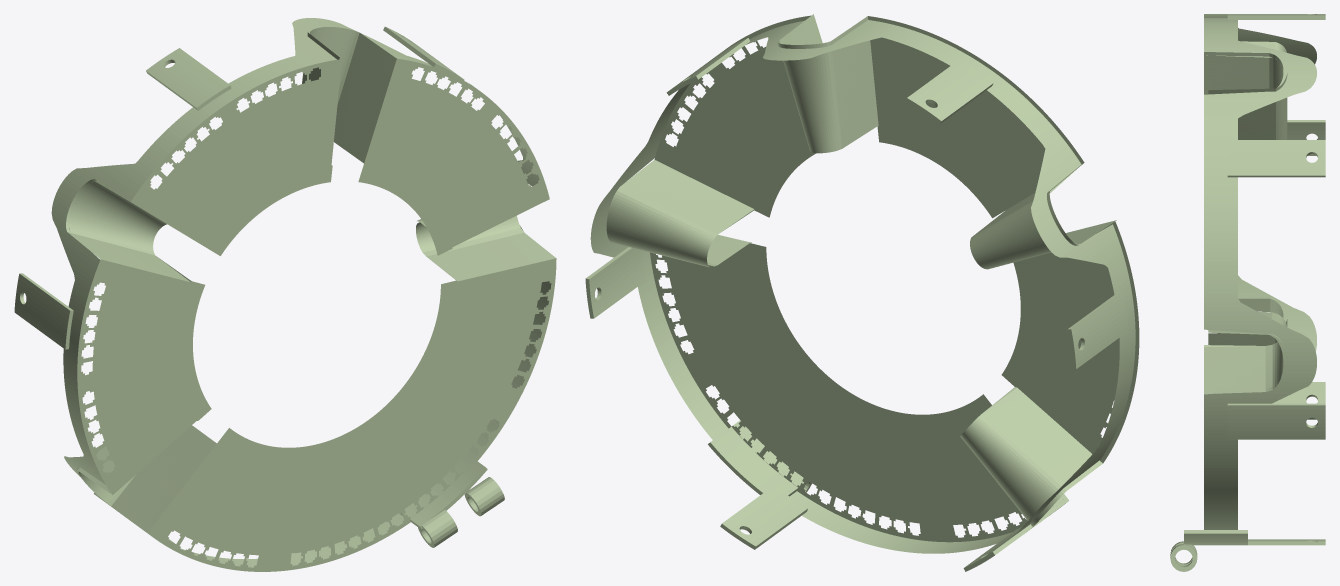
Rendered from 04a_Cap_Shell.glb.
3 views of the same model, side by side, from view 1: azimuth 30°, elevation 25°; view 2: azimuth 150°, elevation 25°; view 3: azimuth 270°, elevation 25° (orthographic). The views are drawn at different scales.
Visible parts, largest first — view 1: world; view 2: world; view 3: world.
Boxes of the visible parts, x1,y1,x2,y2 form: world: (14, 18, 556, 571); world: (585, 14, 1139, 571); world: (1170, 14, 1325, 571).
Size of the model in its own units: 158 by 158 by 46.
